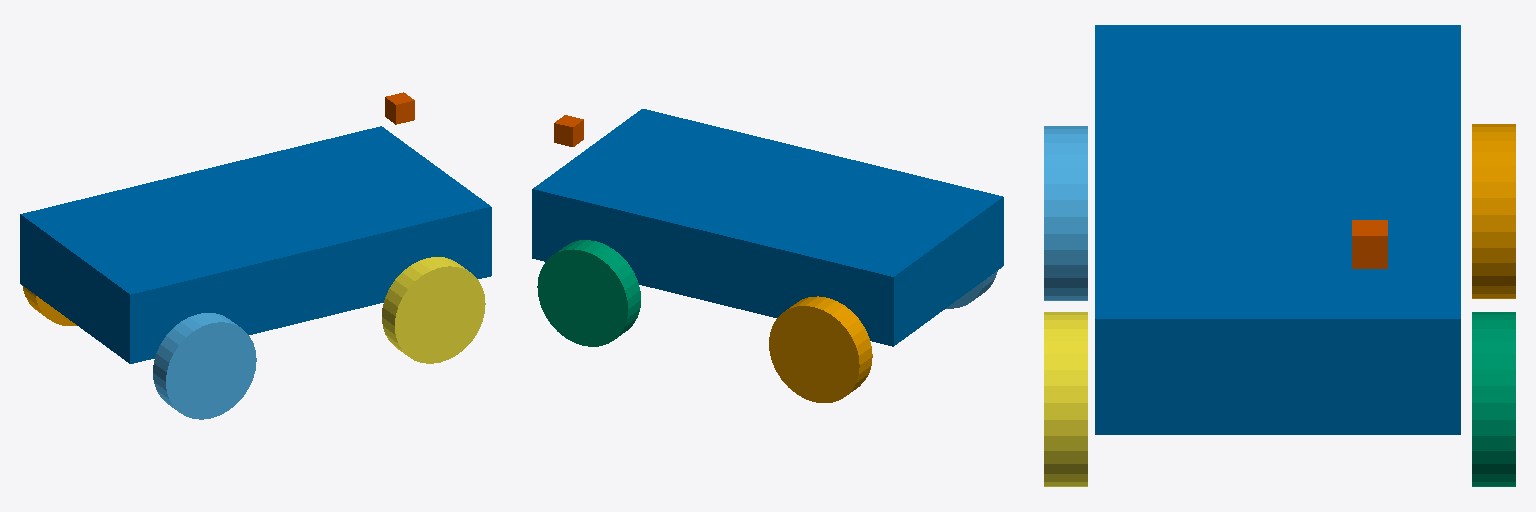
The robot description file, URDF, robot "rover":
<?xml version="1.0"?>
<robot name="rover">
	<link name="LinkWheelBackLeft">
		<inertial>
			<origin xyz="0 0 0" rpy="0 0 0" />
			<mass value="50" />
			<inertia ixx="10" ixy="10" ixz="10" iyy="10" iyz="10" izz="10" />
		</inertial>
		<visual>
			<origin xyz="0 0 0" rpy="0 0 0" />
			<geometry>
				<cylinder radius="0.47719" length="0.23635" />
			</geometry>
		</visual>
		<collision name="WheelBackLeft">
			<origin xyz="0 0 0" rpy="0 0 0" />
			<geometry>
				<cylinder radius="0.47719" length="0.23635" />
			</geometry>
		</collision>
	</link>

	<link name="LinkWheelBackRight">
		<inertial>
			<origin xyz="0 0 0" rpy="0 0 0" />
			<mass value="50" />
			<inertia ixx="10" ixy="10" ixz="10" iyy="10" iyz="10" izz="10" />
		</inertial>
		<visual>
			<origin xyz="0 0 0" rpy="0 0 0" />
			<geometry>
				<cylinder radius="0.47719" length="0.23635" />
			</geometry>
		</visual>
		<collision name="WheelBackRight">
			<origin xyz="0 0 0" rpy="0 0 0" />
			<geometry>
				<cylinder radius="0.47719" length="0.23635" />
			</geometry>
		</collision>
	</link>

	<link name="LinkWheelFrontLeft">
		<inertial>
			<origin xyz="0 0 0" rpy="0 0 0" />
			<mass value="50" />
			<inertia ixx="10" ixy="10" ixz="10" iyy="10" iyz="10" izz="10" />
		</inertial>
		<visual>
			<origin xyz="0 0 0" rpy="0 0 0" />
			<geometry>
				<cylinder radius="0.47719" length="0.23635" />
			</geometry>
		</visual>
		<collision name="WheelFrontLeft">
			<origin xyz="0 0 0" rpy="0 0 0" />
			<geometry>
				<cylinder radius="0.47719" length="0.23635" />
			</geometry>
		</collision>
	</link>

	<link name="LinkWheelFrontRight">
		<inertial>
			<origin xyz="0 0 0" rpy="0 0 0" />
			<mass value="50" />
			<inertia ixx="10" ixy="10" ixz="10" iyy="10" iyz="10" izz="10" />
		</inertial>
		<visual>
			<origin xyz="0 0 0" rpy="0 0 0" />
			<geometry>
				<cylinder radius="0.47719" length="0.23635" />
			</geometry>
		</visual>
		<collision name="WheelFrontRight">
			<origin xyz="0 0 0" rpy="0 0 0" />
			<geometry>
				<cylinder radius="0.47719" length="0.23635" />
			</geometry>
		</collision>
	</link>

	<link name="MainLink">
		<inertial>
			<origin xyz="0 0 0" rpy="0 0 0" />
			<mass value="80.0" />
			<inertia ixx="10" ixy="10" ixz="10" iyy="10" iyz="10" izz="10" />
		</inertial>
		<visual>
			<origin xyz="0 0 0" rpy="0 0 0" />
			<geometry>
				<box size="3.79233 2.0 0.7" />
			</geometry>
		</visual>
		<collision name="MainCube">
			<origin xyz="0 0 0" rpy="0 0 0" />
			<geometry>
				<box size="3.79233 2.0 0.7" />
			</geometry>
		</collision>
	</link>

	<link name="CameraLink">
		<inertial>
			<origin xyz="0 0 0" rpy="0 0 0" />
			<mass value="1.0" />
			<inertia ixx="10" ixy="10" ixz="10" iyy="10" iyz="10" izz="10" />
		</inertial>
		<visual>
			<origin xyz="0 0 0" rpy="0 0 0" />
			<geometry>
				<box size="0.2 0.2 0.2" />
			</geometry>
		</visual>
		<collision name="collision">
			<origin xyz="0 0 0" rpy="0 0 0" />
			<geometry>
				<box size="0.2 0.2 0.2" />
			</geometry>
		</collision>
	</link>

	<joint name="joint_camera" type="fixed">
		<origin xyz="1.8 0.5 0.75" rpy="0 0 0" />
		<parent link="MainLink" />
		<child link="CameraLink" />
		<axis xyz="0 0 1.0" />
	</joint>

	<joint name="joint_wheel_back_left" type="continuous">
		<origin xyz="-1.23386 1.1772 -0.46428" rpy="1.5708 0 0" />
		<parent link="MainLink" />
		<child link="LinkWheelBackLeft" />
		<axis xyz="0 0 -1.0" />
	</joint>

	<joint name="joint_wheel_back_right" type="continuous">
		<origin xyz="-1.20753 -1.15931 -0.46427" rpy="1.5708 0 0" />
		<parent link="MainLink" />
		<child link="LinkWheelBackRight" />
		<axis xyz="0 0 -1.0" />
	</joint>

	<joint name="joint_wheel_front_left" type="continuous">
		<origin xyz="1.19673 1.1772 -0.46427" rpy="1.5708 0 0" />
		<parent link="MainLink" />
		<child link="LinkWheelFrontLeft" />
		<axis xyz="0 0 -1.0" />
	</joint>

	<joint name="joint_wheel_front_right" type="continuous">
		<origin xyz="1.19673 -1.15931 -0.46427" rpy="1.5708 0 0" />
		<parent link="MainLink" />
		<child link="LinkWheelFrontRight" />
		<axis xyz="0 0 -1.0" />
	</joint>

	<gazebo>
		<plugin name="gazebo_ros_control" filename="libgazebo_ros_control.so">
			<robotNamespace>/rover</robotNamespace>
		</plugin>
	</gazebo>

	<gazebo reference="CameraLink">
		<sensor name='cam_sensor' type='camera'>
			<pose>1.8 0.5 0.75 0 0 0</pose>
			<update_rate>20.000000</update_rate>
			<camera name='CameraLink'>
				<horizontal_fov>1.570000</horizontal_fov>
				<image>
					<width>320</width>
					<height>240</height>
					<format>R8G8B8</format>
				</image>
				<clip>
					<near>0.100000</near>
					<far>15.000000</far>
				</clip>
			</camera>
			<plugin name="camera_controller" filename="libgazebo_ros_camera.so">
				<alwaysOn>true</alwaysOn>
				<updateRate>0.0</updateRate>
				<cameraName>camera</cameraName>
				<imageTopicName>image_raw</imageTopicName>
				<cameraInfoTopicName>camera_info</cameraInfoTopicName>
				<frameName>camera_top_body</frameName>
				<hackBaseline>0.07</hackBaseline>
				<distortionK1>0.0</distortionK1>
				<distortionK2>0.0</distortionK2>
				<distortionK3>0.0</distortionK3>
				<distortionT1>0.0</distortionT1>
				<distortionT2>0.0</distortionT2>
			</plugin>
		</sensor>
	</gazebo>


	<transmission name="joint_wheel_front_right_trans">
		<type>transmission_interface/SimpleTransmission</type>
		<actuator name="motor1">
			<mechanicalReduction>1</mechanicalReduction>
		</actuator>
		<joint name="joint_wheel_front_right">
			<hardwareInterface>hardware_interface/VelocityJointInterface</hardwareInterface>
		</joint>
	</transmission>

	<transmission name="joint_wheel_front_left_trans">
		<type>transmission_interface/SimpleTransmission</type>
		<actuator name="motor2">
			<mechanicalReduction>1</mechanicalReduction>
			<hardwareInterface>hardware_interface/VelocityJointInterface</hardwareInterface>
		</actuator>
		<joint name="joint_wheel_front_left">
			<hardwareInterface>hardware_interface/VelocityJointInterface</hardwareInterface>
		</joint>
	</transmission>

	<transmission name="joint_wheel_back_right_trans">
		<type>transmission_interface/SimpleTransmission</type>
		<actuator name="motor3">
			<mechanicalReduction>1</mechanicalReduction>
			<hardwareInterface>hardware_interface/VelocityJointInterface</hardwareInterface>
		</actuator>
		<joint name="joint_wheel_back_right">
			<hardwareInterface>hardware_interface/VelocityJointInterface</hardwareInterface>
		</joint>
	</transmission>

	<transmission name="joint_wheel_back_left_trans">
		<type>transmission_interface/SimpleTransmission</type>
		<actuator name="motor4">
			<mechanicalReduction>1</mechanicalReduction>
			<hardwareInterface>hardware_interface/VelocityJointInterface</hardwareInterface>
		</actuator>
		<joint name="joint_wheel_back_left">
			<hardwareInterface>hardware_interface/VelocityJointInterface</hardwareInterface>
		</joint>
	</transmission>

	<gazebo reference="MainLink">
		<material>Gazebo/Red</material>
	</gazebo>

	<gazebo reference="LinkWheelFrontRight">
		<material>Gazebo/Black</material>
	</gazebo>

	<gazebo reference="LinkWheelFrontLeft">
		<material>Gazebo/Black</material>
	</gazebo>

	<gazebo reference="LinkWheelBackRight">
		<material>Gazebo/Black</material>
	</gazebo>

	<gazebo reference="LinkWheelBackLeft">
		<material>Gazebo/Black</material>
	</gazebo>

	<gazebo reference="CameraLink">
		<material>Gazebo/Green</material>
	</gazebo>


</robot>

--- What the picture shows (computed from the rendered views, not written in the file) ---
Views: 3 orthographic renders of the robot side by side, from view 1: azimuth 30°, elevation 25°; view 2: azimuth 150°, elevation 25°; view 3: azimuth 270°, elevation 25°.
Model rover with 6 links and 5 joints (4 continuous, 1 fixed), rooted at MainLink, posed all joints at 0.
Visible links, largest first — view 1: MainLink, LinkWheelFrontRight, LinkWheelBackRight, CameraLink, LinkWheelBackLeft; view 2: MainLink, LinkWheelFrontLeft, LinkWheelBackLeft, CameraLink; view 3: MainLink, LinkWheelBackLeft, LinkWheelBackRight, LinkWheelFrontLeft, LinkWheelFrontRight, CameraLink.
Link boxes in pixels (<box>): MainLink: <box>20,126,491,363</box>; LinkWheelFrontRight: <box>382,257,485,363</box>; LinkWheelBackRight: <box>153,313,256,419</box>; CameraLink: <box>385,92,414,124</box>; LinkWheelBackLeft: <box>22,285,76,325</box>; MainLink: <box>532,109,1003,346</box>; LinkWheelFrontLeft: <box>537,240,640,346</box>; LinkWheelBackLeft: <box>769,296,872,402</box>; CameraLink: <box>554,115,583,146</box>; MainLink: <box>1095,25,1460,434</box>; LinkWheelBackLeft: <box>1472,124,1515,298</box>; LinkWheelBackRight: <box>1044,126,1087,300</box>; LinkWheelFrontLeft: <box>1472,312,1515,486</box>; LinkWheelFrontRight: <box>1044,312,1087,486</box>; CameraLink: <box>1352,220,1387,268</box>.
Bounding box of the posed robot: 3.8 × 2.57 × 1.79 m (x, y, z).
Geometry: primitives only (box / cylinder / sphere), no mesh files.
